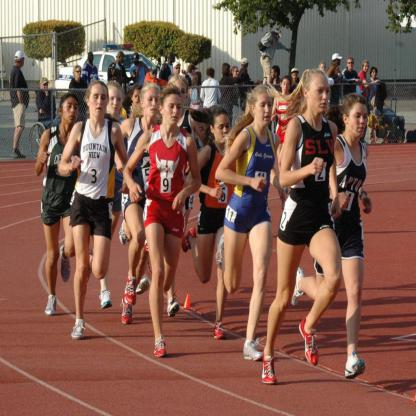face: (309, 77, 330, 113), (349, 103, 368, 138), (90, 86, 109, 118), (164, 94, 182, 126), (256, 95, 273, 127), (145, 88, 160, 118), (63, 97, 80, 123), (109, 85, 123, 114), (215, 116, 231, 140), (173, 78, 188, 103), (196, 120, 209, 139), (134, 90, 143, 107), (221, 64, 230, 76), (283, 79, 290, 94), (349, 58, 355, 71), (42, 83, 50, 92), (133, 54, 140, 64), (234, 68, 240, 79), (89, 53, 95, 64), (176, 63, 181, 75), (119, 53, 125, 63), (76, 69, 81, 80), (373, 69, 378, 79), (169, 56, 174, 66), (272, 69, 277, 79), (151, 73, 158, 80), (322, 64, 327, 73), (364, 63, 370, 70), (293, 72, 298, 80), (338, 58, 341, 68), (23, 58, 26, 67), (278, 34, 282, 40), (193, 69, 196, 76), (246, 65, 249, 70)
